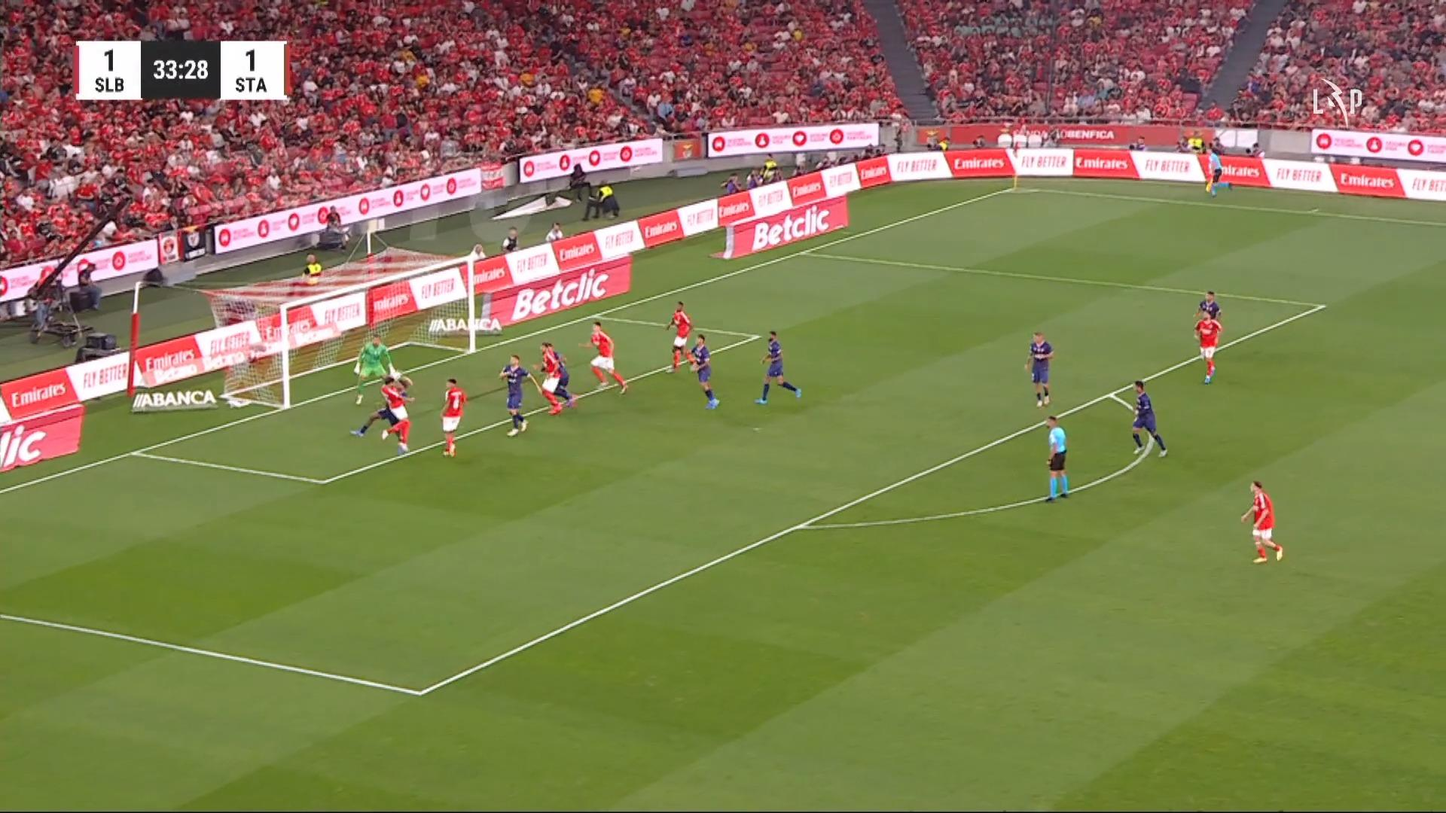ball: (398, 374, 413, 389)
goalkeeper: (352, 333, 396, 404)
player: (349, 373, 415, 455), (578, 320, 629, 394), (1240, 480, 1283, 563), (754, 330, 802, 404), (498, 353, 534, 437), (1130, 379, 1167, 457), (538, 340, 577, 414), (687, 333, 720, 409), (1024, 330, 1054, 407), (440, 377, 466, 457), (1193, 312, 1222, 383), (664, 300, 692, 373), (1193, 288, 1222, 324)
referee: (1042, 414, 1069, 501), (1204, 146, 1223, 196)
